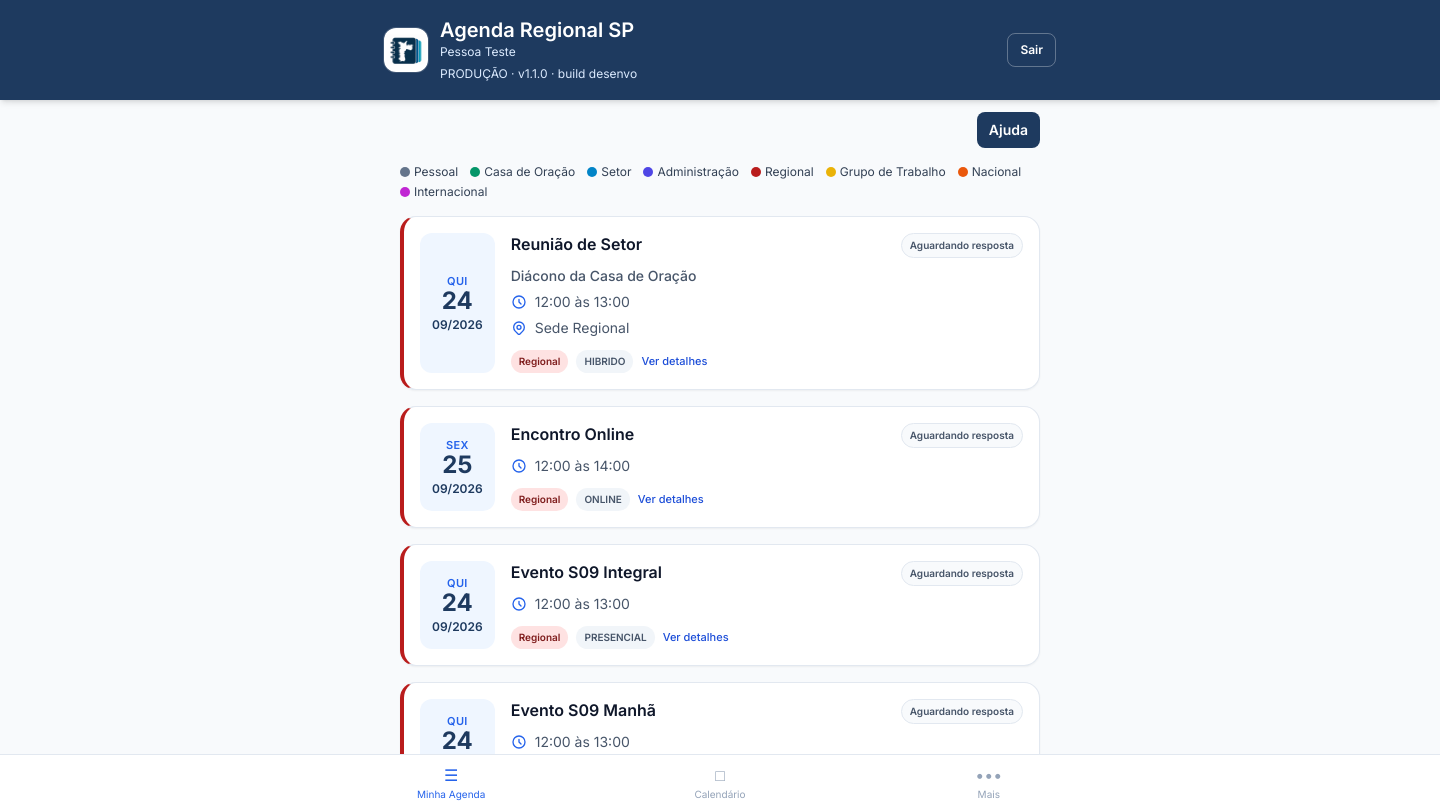
it: S07 - Minha Agenda e Calendário › 7. Seleciona dia sem evento no calendário
The width and height of the screenshot is (1440, 810).
Note: Go to calendar
Click the text "Calendário" at (720, 794), box [694,787,746,802]
(page scrolled)
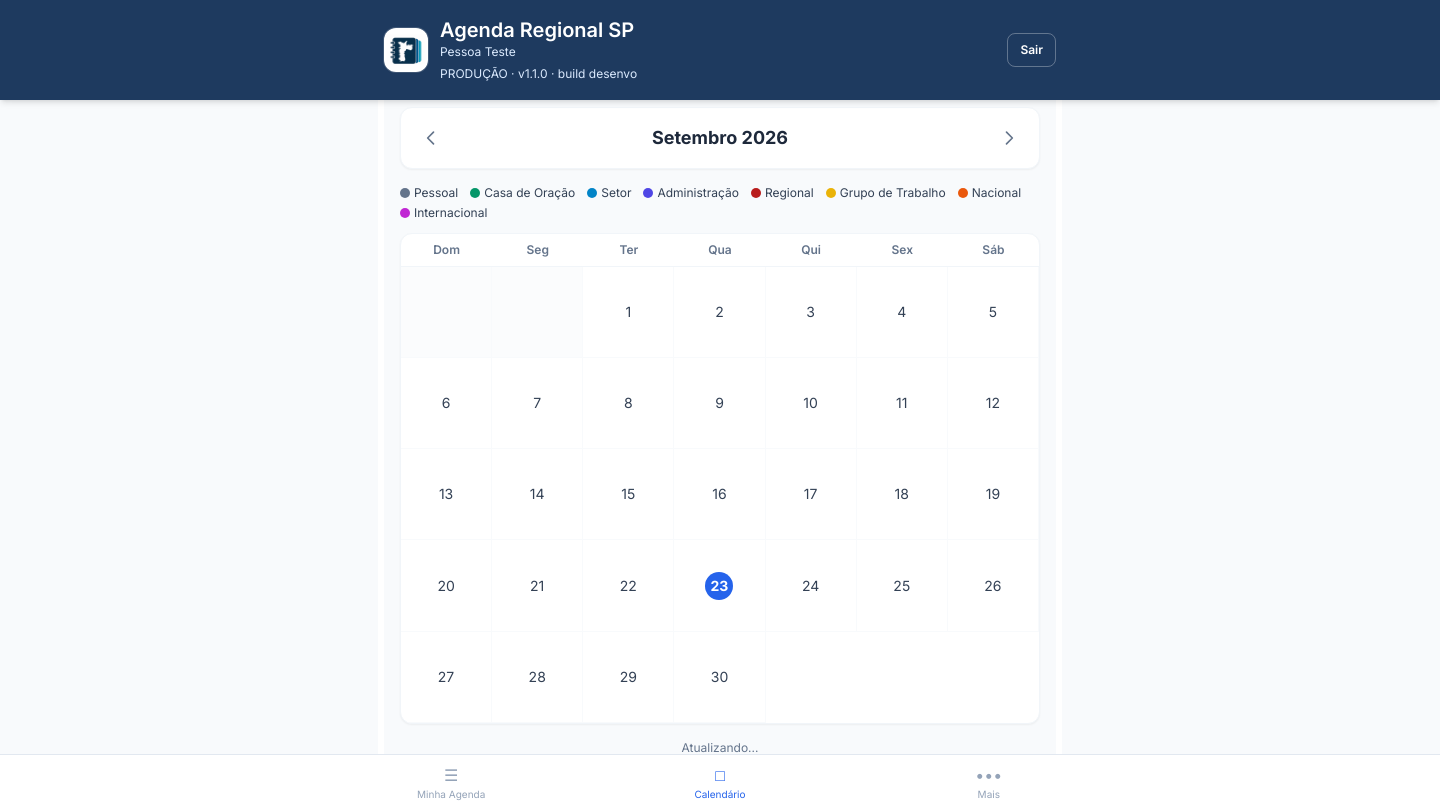
Now the text "Dom" is shown, box [433,242,460,257]
Click the button "23" at (720, 586), box [674,540,766,632]
(page scrolled)
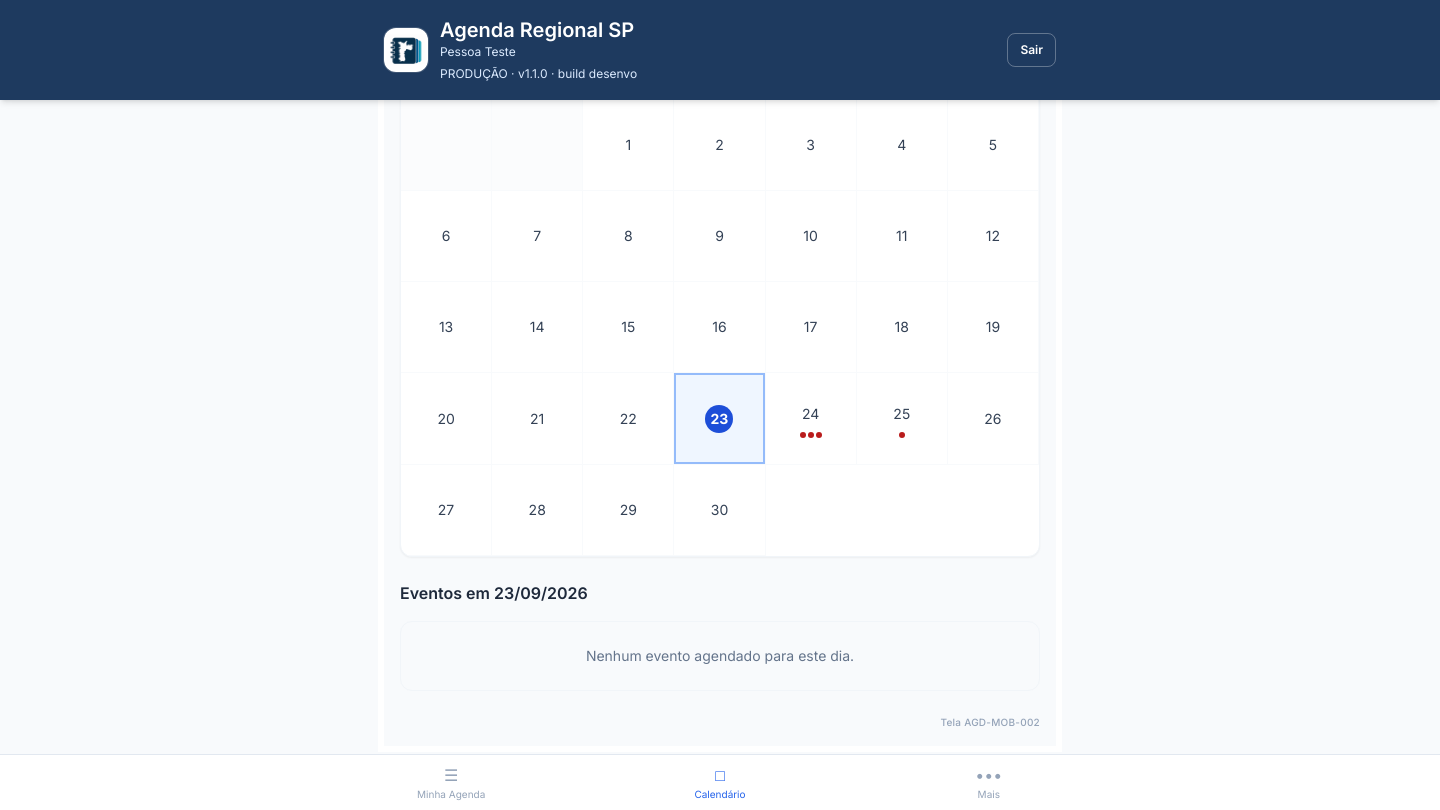
Now the text "Nenhum evento agendado para este dia." is shown, box [400,621,1040,691]
